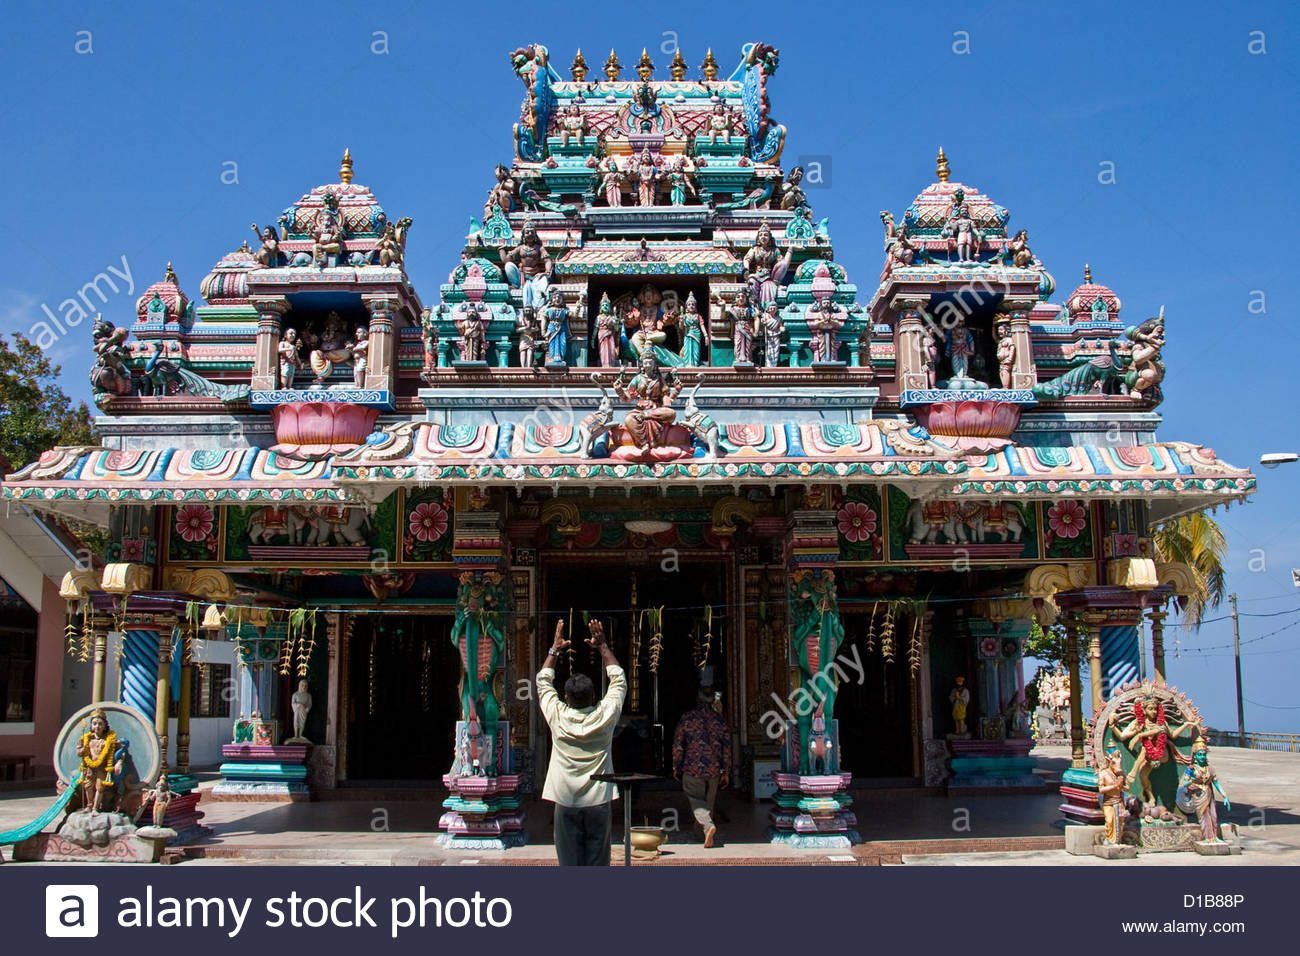Hindu Temple: (50, 41, 1178, 753)
